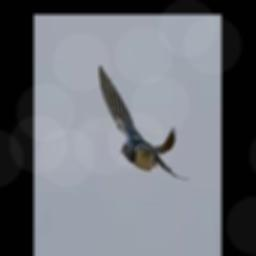Swallow: (98, 63, 189, 182)
